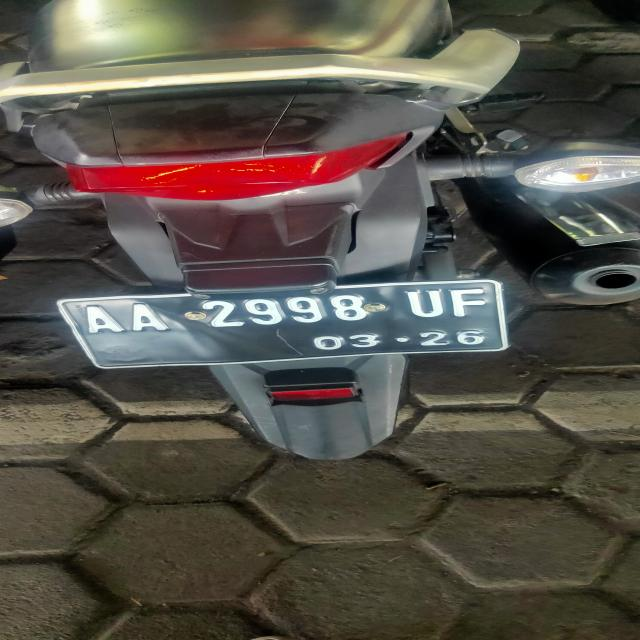License-Plate: (24, 276, 574, 390)
